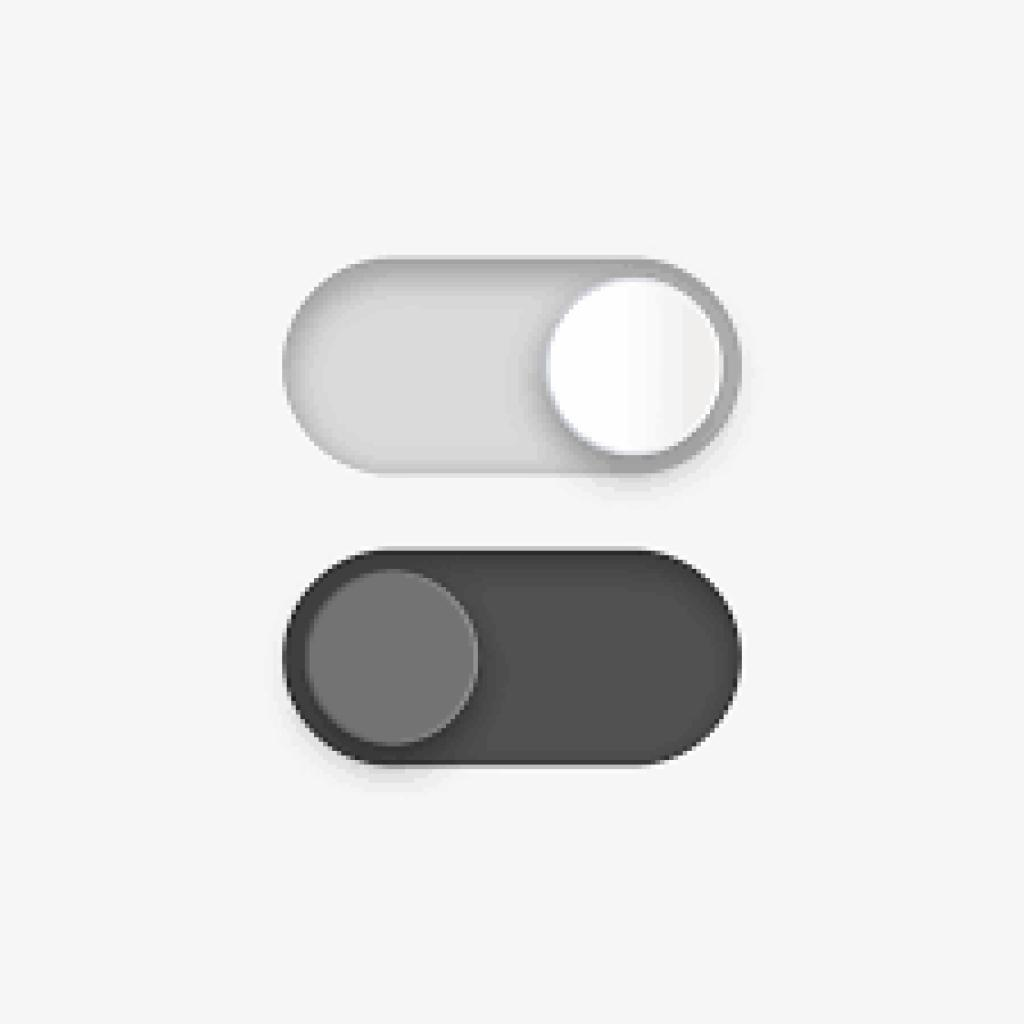switch: (275, 246, 747, 485), (275, 550, 742, 771)
